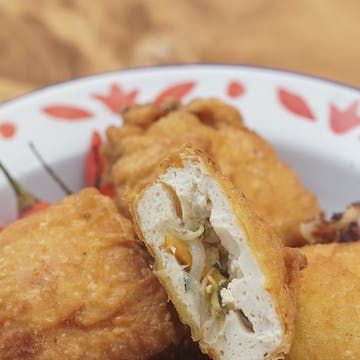Tahu: (1, 181, 143, 350)
